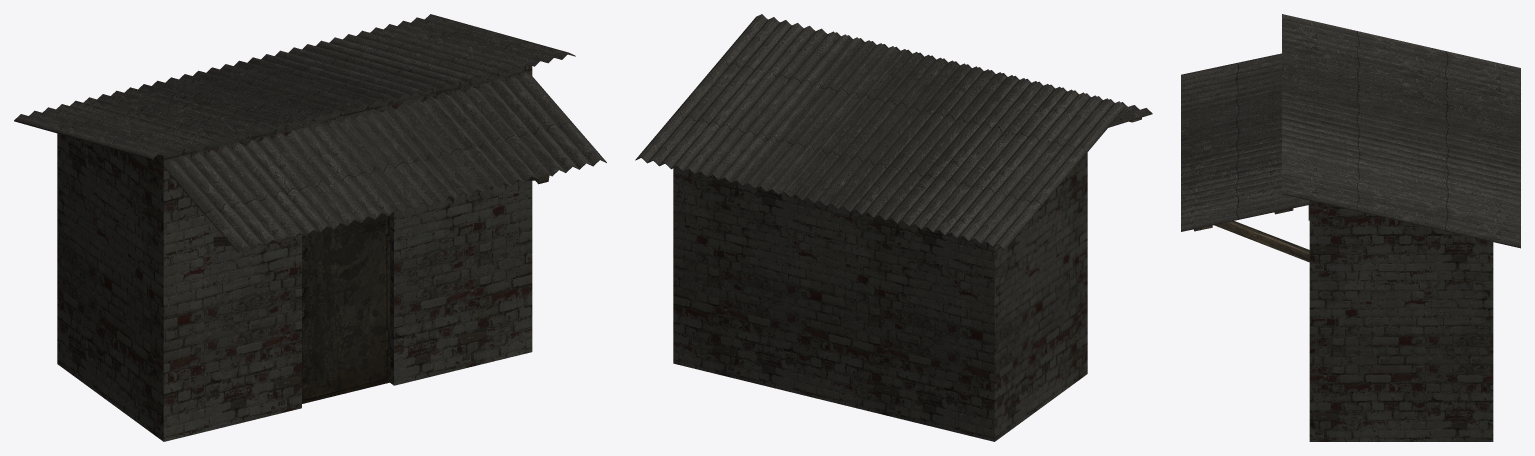
Rendered from shed_ax_2.obj.
The picture shows the model from 3 angles, left to right: view 1: azimuth 30°, elevation 25°; view 2: azimuth 150°, elevation 25°; view 3: azimuth 270°, elevation 25°; orthographic projection. The views are drawn at different scales.
Visible parts, largest first — view 1: shed_ax_2, door_hr_3; view 2: shed_ax_2; view 3: shed_ax_2.
Part boxes in pixels (x1=…): shed_ax_2: x1=14, y1=14, x2=606, y2=441; door_hr_3: x1=302, y1=213, x2=389, y2=403; shed_ax_2: x1=635, y1=14, x2=1152, y2=441; shed_ax_2: x1=1181, y1=14, x2=1520, y2=441.
Bounding box in the file's own units: 4.59 × 3.17 × 3.7.
